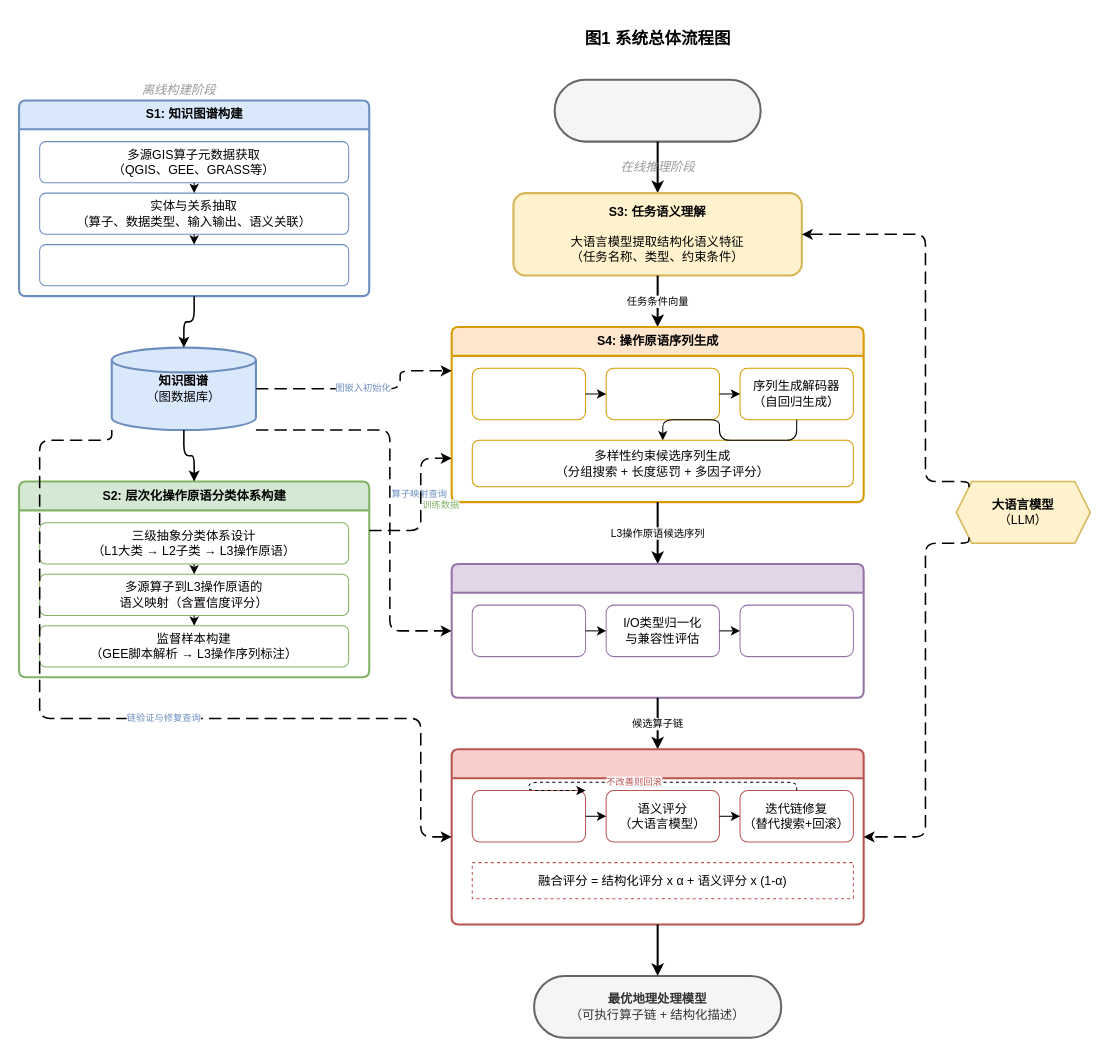
This 1108x1056 diagram has some shape labels left out. The shapes that lost their labels are listed below. From the top down, each one's box as (x1, y1, x2, y2) in pixels, then its label:
(553, 78, 761, 142): 自然语言任务描述 （用户输入）
(39, 244, 349, 286): 图数据库存储与管理
(471, 367, 586, 420): 文本编码器 （语义编码）
(605, 367, 719, 420): 条件注入模块 （逐层调制）
(471, 604, 586, 657): 语义相似度 融合评分
(450, 562, 864, 698): S5: 算子映射与候选链生成
(739, 604, 853, 657): 带约束的 搜索扩展
(471, 789, 586, 842): 结构化评分 （知识图谱查询）
(450, 748, 864, 925): S6: 多阶段融合推理与链修复
